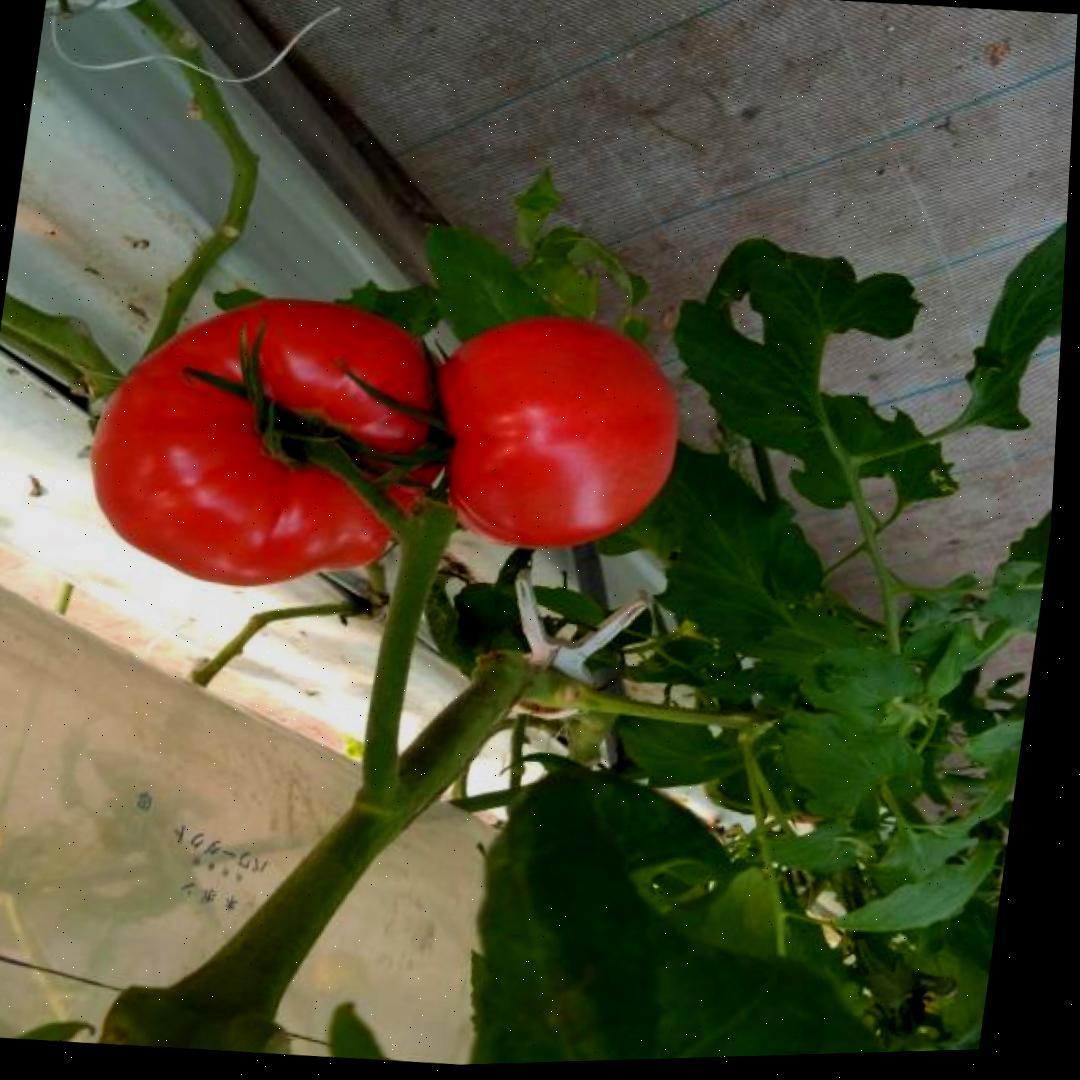matang: (68, 275, 475, 609), (404, 295, 698, 562)
